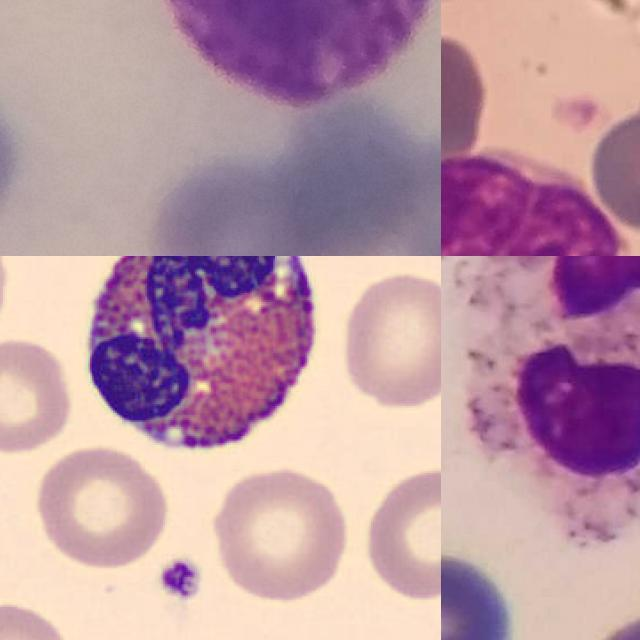Basophil: (159, 0, 441, 107)
Eosinophil: (68, 256, 335, 469), (441, 148, 624, 256)
Neutrophil: (464, 256, 640, 529)
Platelets: (154, 554, 206, 602)
RBC: (206, 461, 355, 605), (30, 441, 174, 570), (335, 266, 441, 411), (358, 460, 441, 603), (0, 334, 75, 459), (0, 598, 74, 640)
